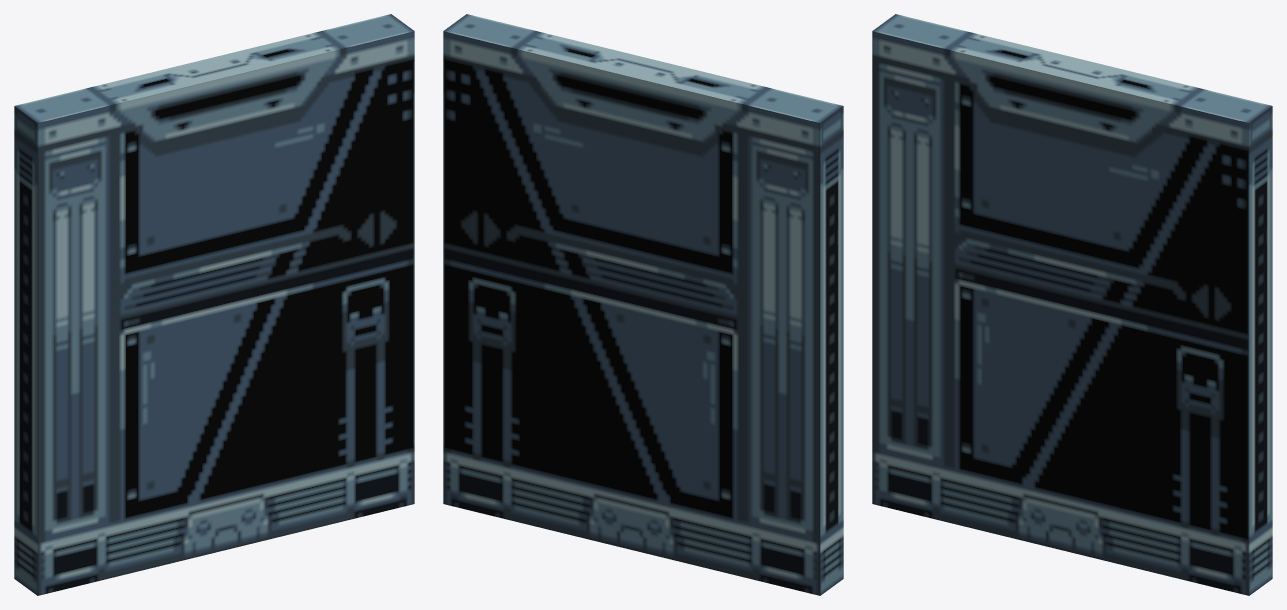
File: Structure_Door_Metal_01.fbx
3 views of the same model, side by side, from view 1: azimuth 30°, elevation 25°; view 2: azimuth 150°, elevation 25°; view 3: azimuth 330°, elevation 25° (orthographic).
Parts seen in each view (by area): view 1: Door_Metal; view 2: Door_Metal; view 3: Door_Metal.
Boxes of the visible parts, left/top/right/bottom form: Door_Metal: left=14, top=14, right=414, bottom=595; Door_Metal: left=443, top=14, right=843, bottom=595; Door_Metal: left=872, top=14, right=1272, bottom=595.
Size of the model in its own units: 25 by 29.95 by 2.7.
